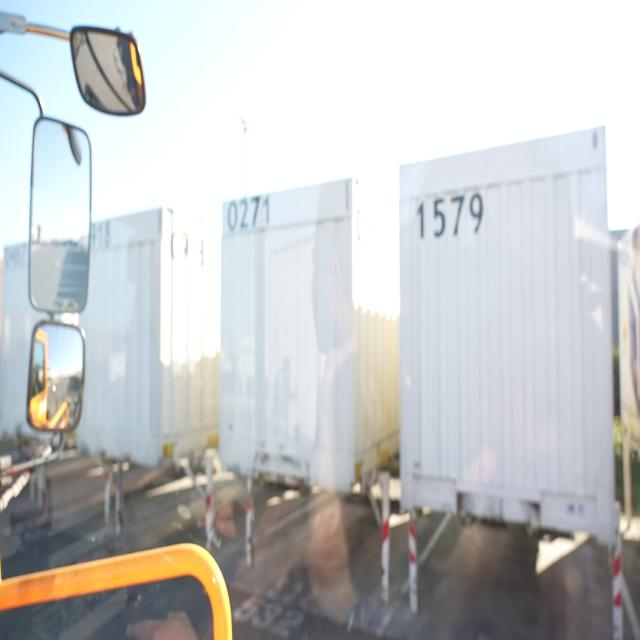Code: (416, 192, 486, 242), (223, 194, 273, 233)
